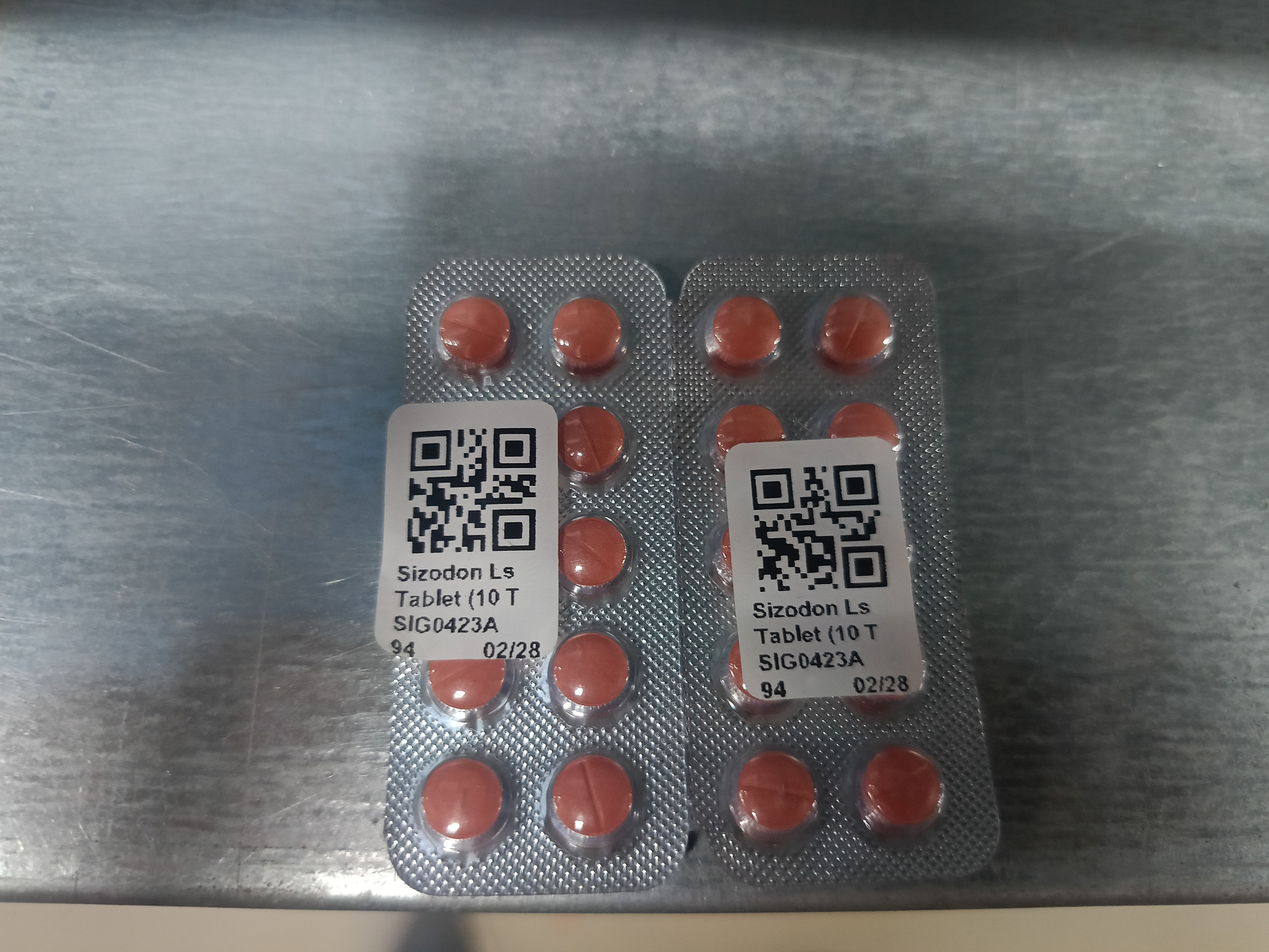qr_code: (833, 461, 990, 588), (750, 465, 890, 593), (405, 428, 535, 553)
